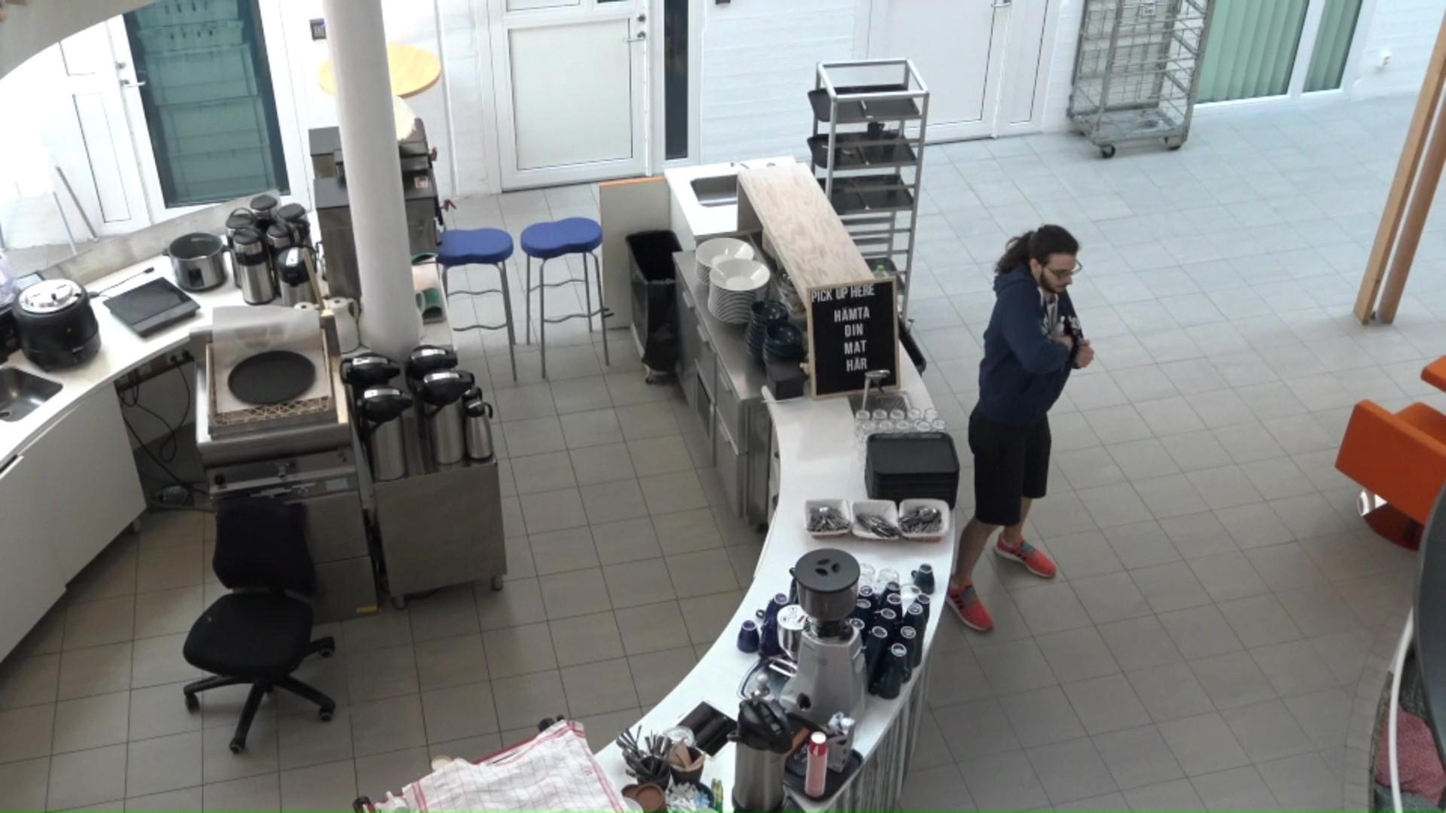shoplifting: (947, 226, 1096, 632)
